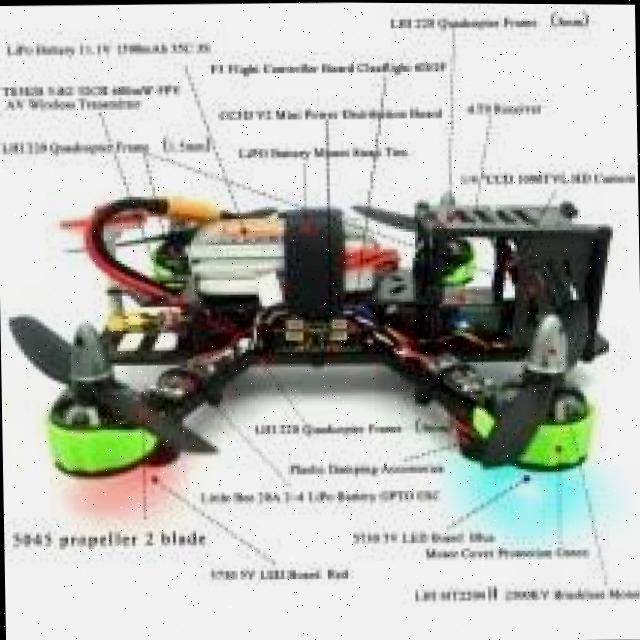drone: (16, 180, 609, 512)
